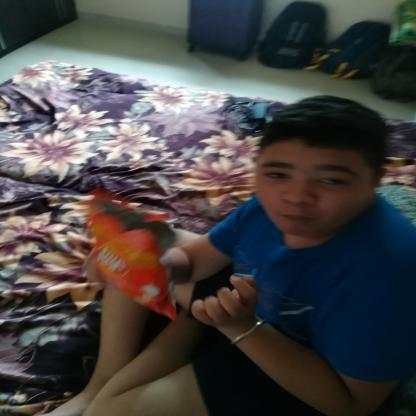hot_and_sweet: (83, 189, 183, 326)
